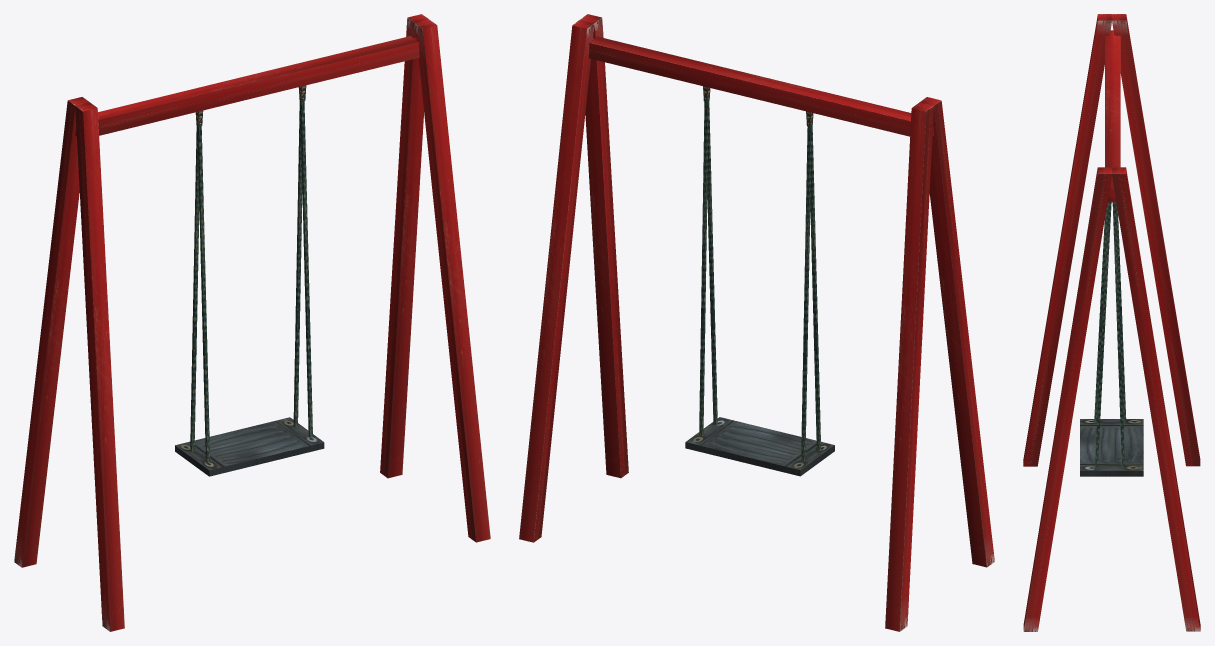
File: swings_1_lod.FBX
3 views of the same model, side by side, from view 1: azimuth 30°, elevation 25°; view 2: azimuth 150°, elevation 25°; view 3: azimuth 270°, elevation 25° (orthographic). The views are drawn at different scales.
Visible parts, largest first — view 1: Box011; view 2: Box011; view 3: Box011.
Part boxes in pixels (left/top/right/bottom): Box011: left=14, top=14, right=490, bottom=631; Box011: left=519, top=14, right=994, bottom=631; Box011: left=1023, top=14, right=1200, bottom=631.
Bounding box in the file's own units: 99.09 × 121 × 43.1.
